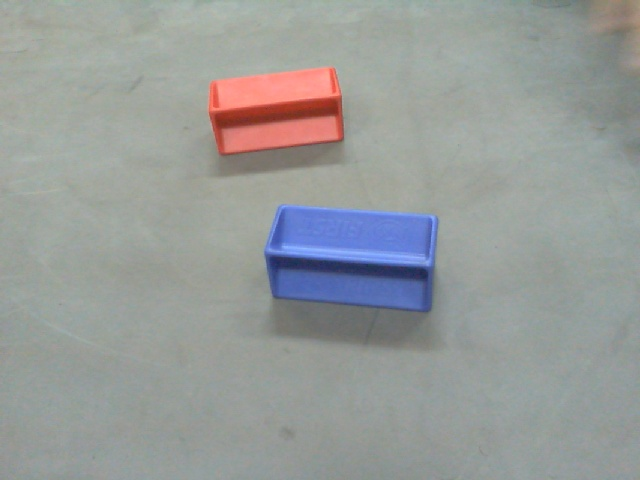BlueSample: (264, 201, 445, 318)
RedSample: (202, 63, 354, 159)
